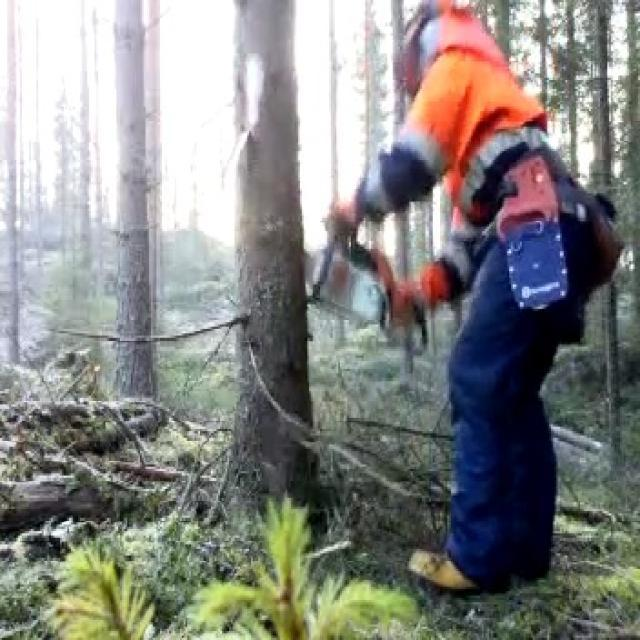Chainsaw: (284, 198, 428, 363)
